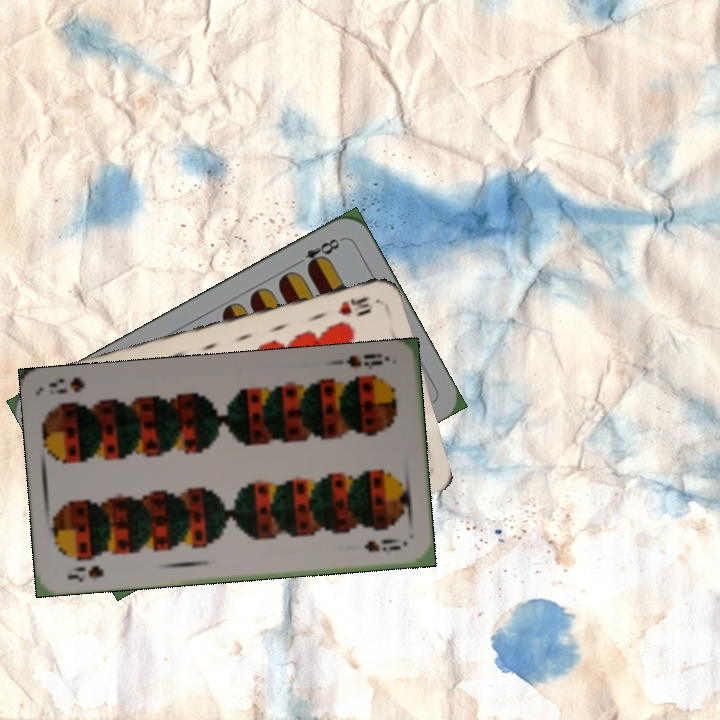E8: (290, 234, 345, 272)
H10: (334, 292, 375, 319)
S8: (64, 561, 106, 584), (343, 352, 385, 373)
